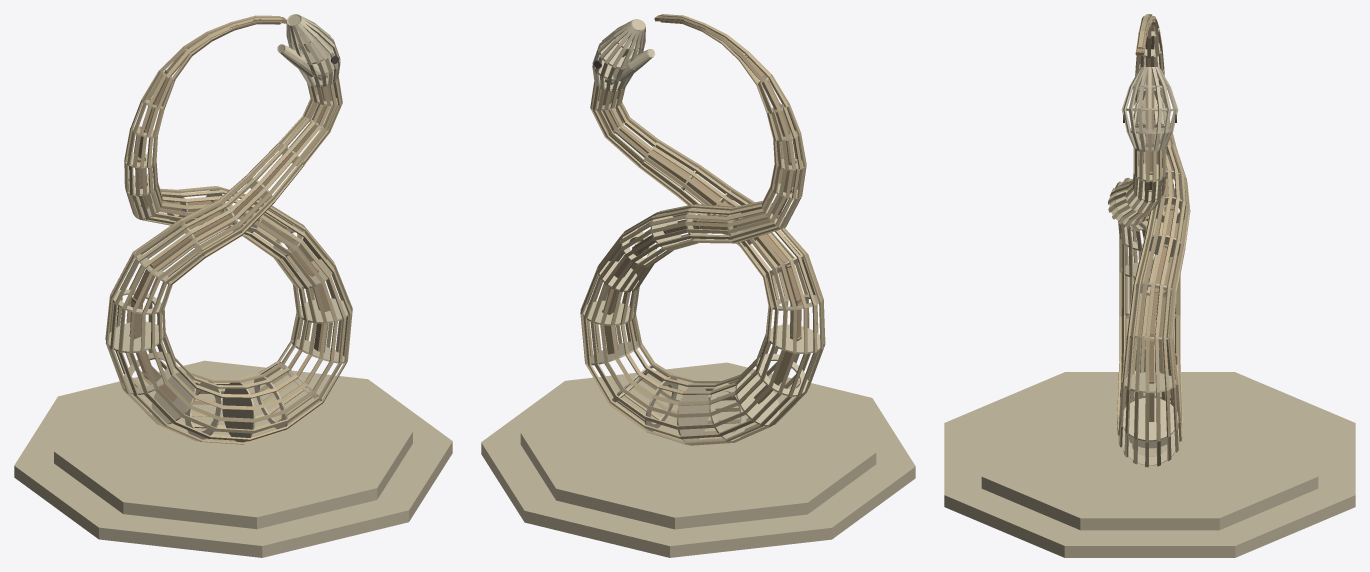
The model's file is snake_build.glb.
3 views of the same model, side by side, from view 1: azimuth 30°, elevation 25°; view 2: azimuth 150°, elevation 25°; view 3: azimuth 270°, elevation 25° (orthographic).
Visible parts, largest first — view 1: base, slats, ribs, spine, head; view 2: base, slats, ribs, spine, head; view 3: base, slats, ribs, head, spine.
Boxes of the visible parts, left/top/right/bottom form: base: left=14, top=360, right=452, bottom=557; slats: left=105, top=15, right=352, bottom=444; ribs: left=108, top=34, right=350, bottom=442; spine: left=129, top=17, right=332, bottom=402; head: left=277, top=14, right=340, bottom=87; base: left=481, top=362, right=915, bottom=557; slats: left=580, top=14, right=825, bottom=445; ribs: left=583, top=37, right=823, bottom=441; spine: left=602, top=15, right=802, bottom=404; head: left=592, top=19, right=654, bottom=91; base: left=944, top=372, right=1355, bottom=557; slats: left=1108, top=14, right=1190, bottom=467; ribs: left=1109, top=16, right=1186, bottom=465; head: left=1121, top=67, right=1178, bottom=152; spine: left=1135, top=18, right=1174, bottom=421.
Size of the model in its own units: 171 by 206 by 171.
